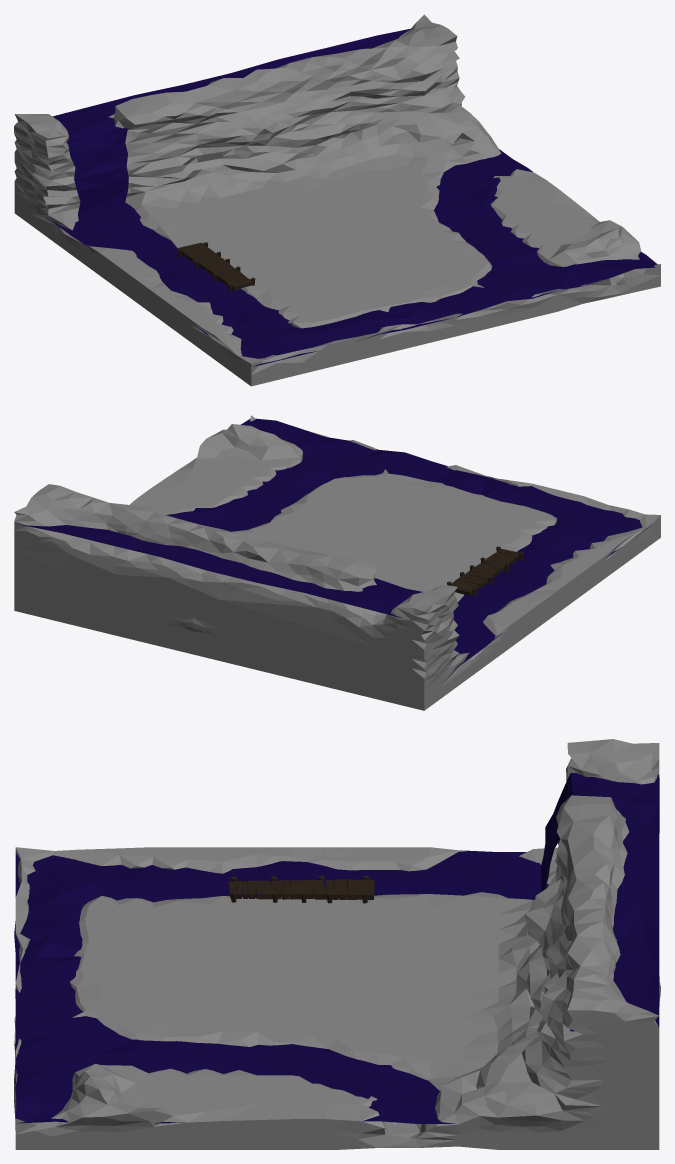
File: Hades_Ground_Coloured.fbx
The picture shows the model from 3 angles, top to bottom: view 1: azimuth 30°, elevation 25°; view 2: azimuth 150°, elevation 25°; view 3: azimuth 270°, elevation 25°; orthographic projection. The views are drawn at different scales.
Parts seen in each view (by area): view 1: Dock; view 2: Dock; view 3: Dock.
Part boxes in pixels (x1,y1,x2,y2): Dock: [14, 14, 660, 386]; Dock: [14, 415, 660, 710]; Dock: [14, 739, 660, 1149].
Bounding box in the file's own units: 612 × 152 × 603.
